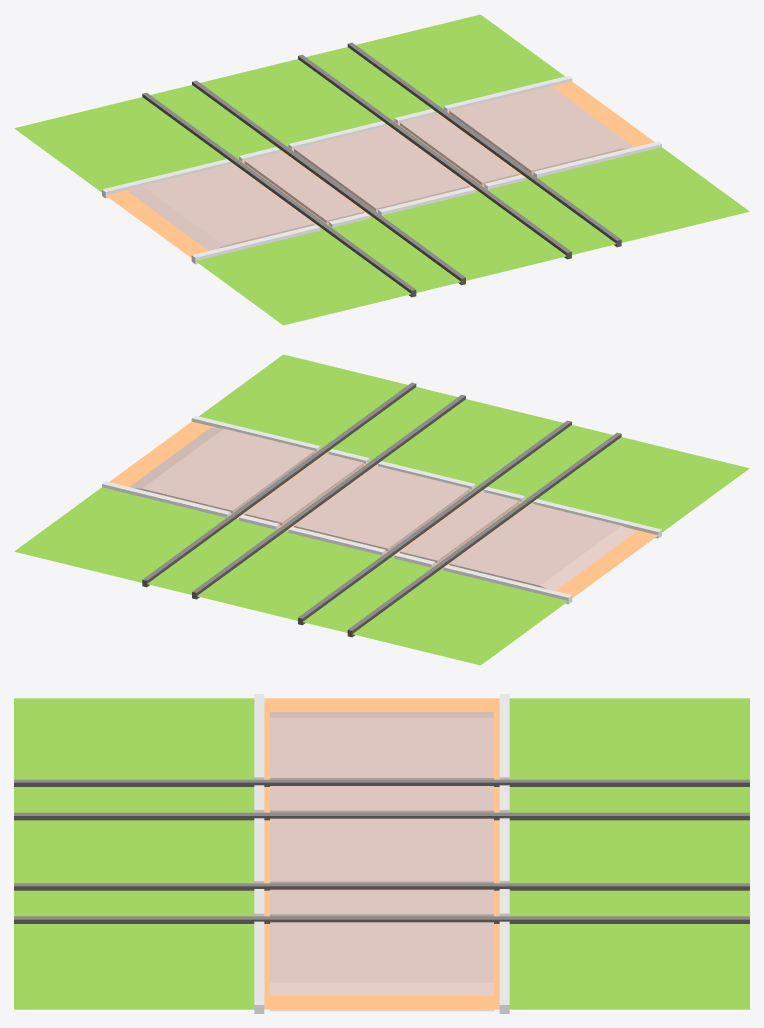
The model's file is tram_railway_007.glb.
3 renders of one model, top to bottom at view 1: azimuth 30°, elevation 25°; view 2: azimuth 150°, elevation 25°; view 3: azimuth 270°, elevation 25°, orthographic. The views are drawn at different scales.
Parts seen in each view (by area): view 1: tram_railway_007; view 2: tram_railway_007; view 3: tram_railway_007.
Part boxes in pixels (x1,y1,x2,y2): tram_railway_007: (14, 14, 749, 325); tram_railway_007: (14, 354, 749, 665); tram_railway_007: (14, 694, 749, 1013).
Size of the model in its own units: 15 by 0.2 by 15.
1 material, 1 textured.
